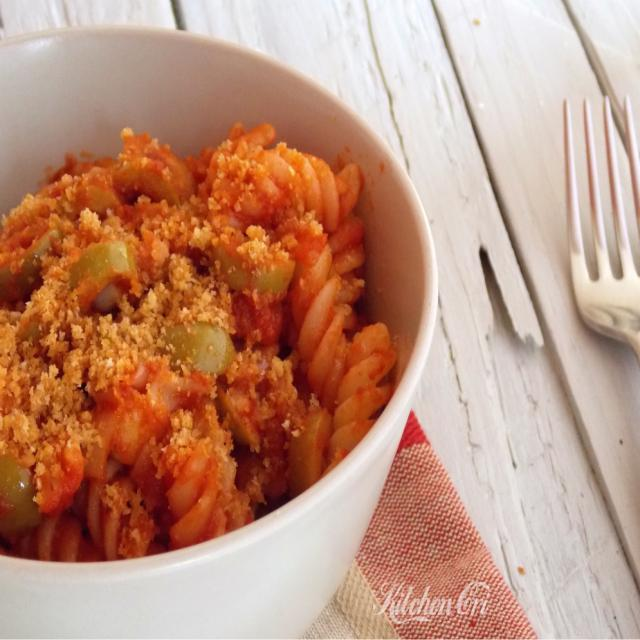Pasta al ragu: (6, 103, 402, 625)
